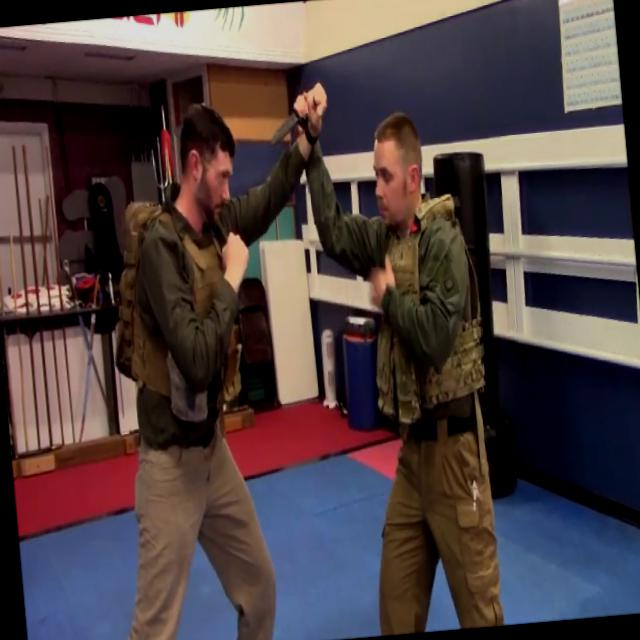knife: (266, 89, 324, 158)
